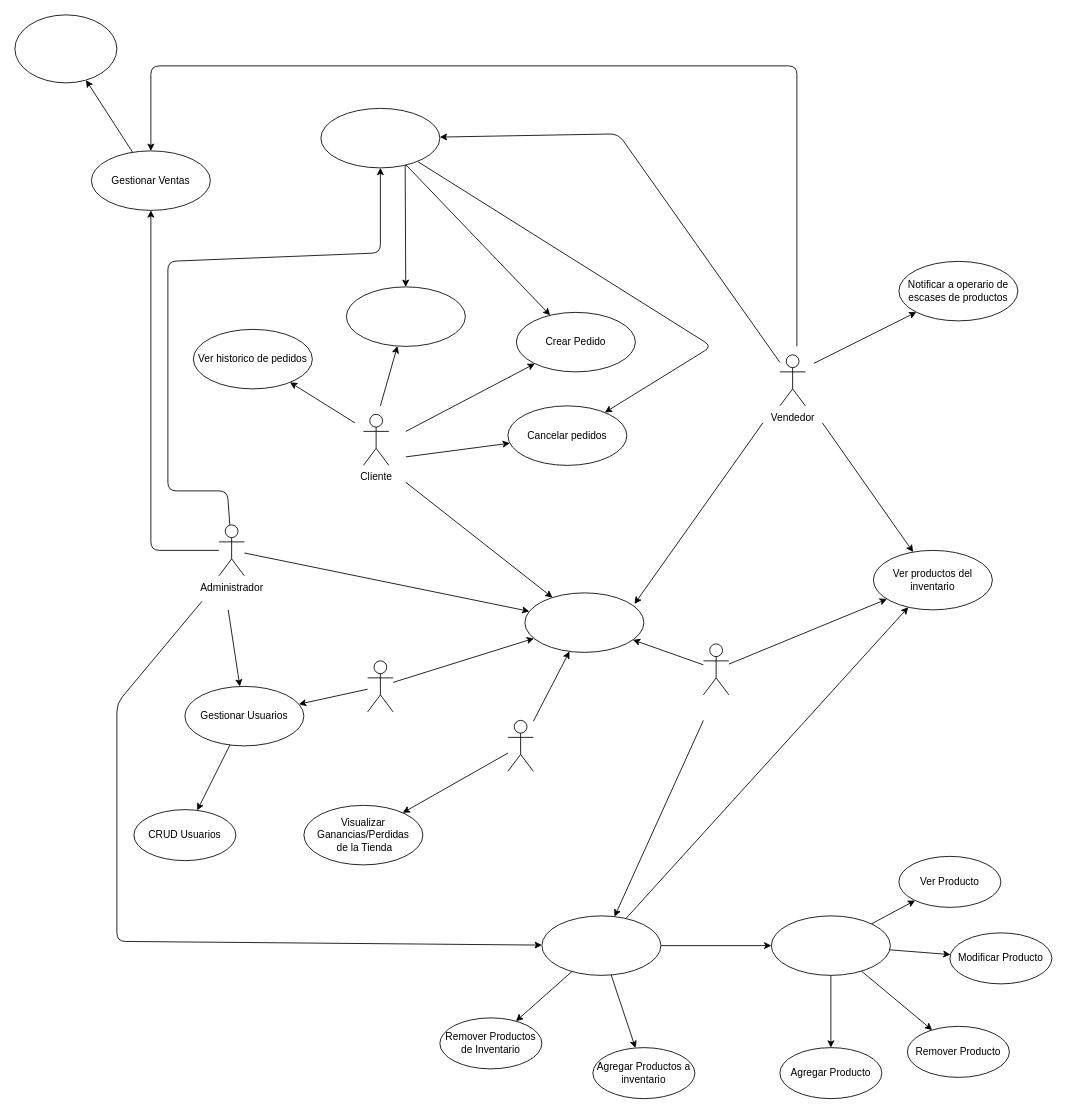
Image size: 1067x1114. Some labels were removed from this diagram. The shapes that lost their labels are listed below. From the top down, each one's centre as x and y in pixels, then its label:
At point 65,48: "CRUD ventas".
At point 380,138: "Gestionar Pedidos".
At point 405,316: "Consultar Estado de pedido".
At point 584,622: "Ingresar al sistema".
At point 380,686: "Director".
At point 716,669: "Operario".
At point 520,745: "Gerente Comercial".
At point 601,945: "Gestionar Inventario".
At point 830,945: "Gestionar Productos".
